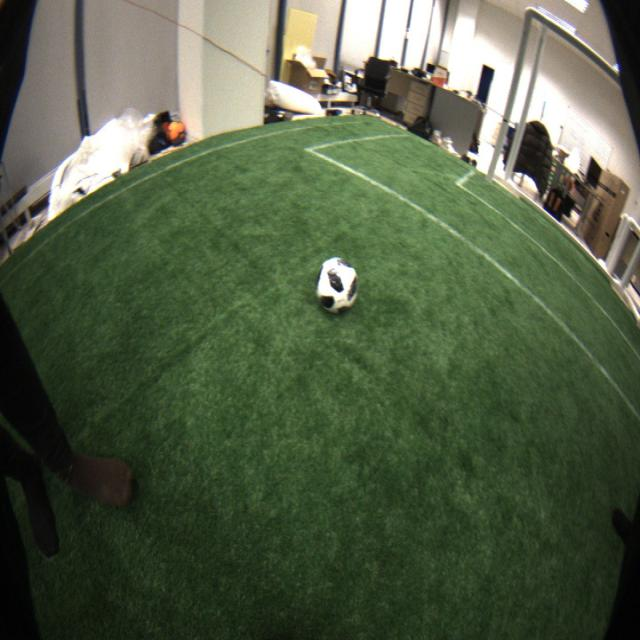ball: (315, 258, 360, 314)
goalpost: (484, 7, 544, 182)
